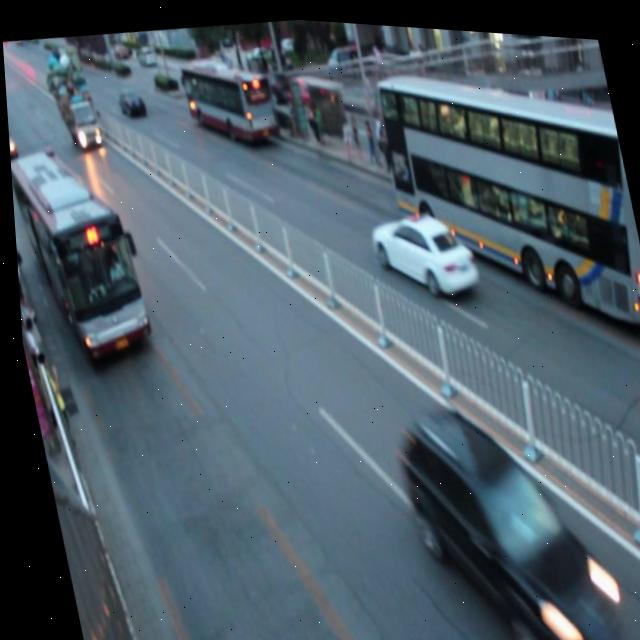bus: (42, 36, 102, 153)
car: (385, 386, 622, 640), (362, 199, 479, 302), (115, 82, 148, 122), (6, 120, 17, 162)
van: (371, 43, 640, 344), (7, 142, 151, 368), (175, 45, 280, 149)
